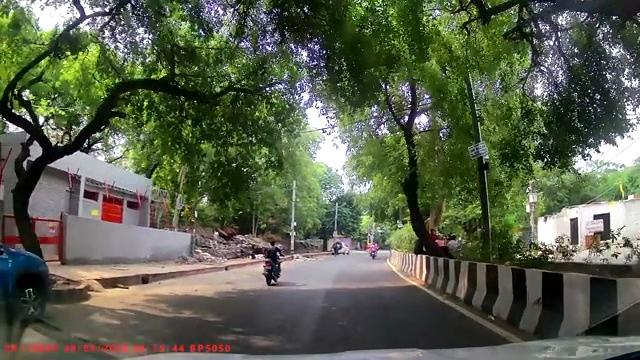motorcycle_without_helmet: (262, 238, 283, 286)
